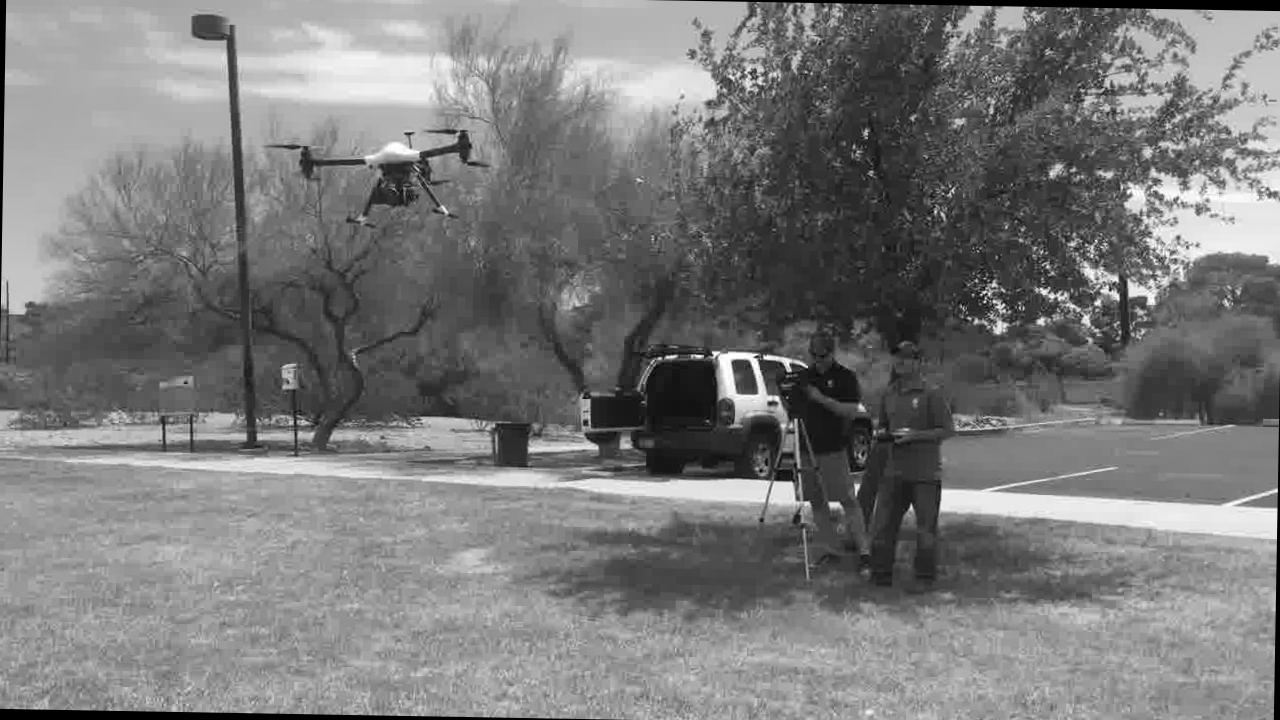drone: (271, 120, 492, 231)
